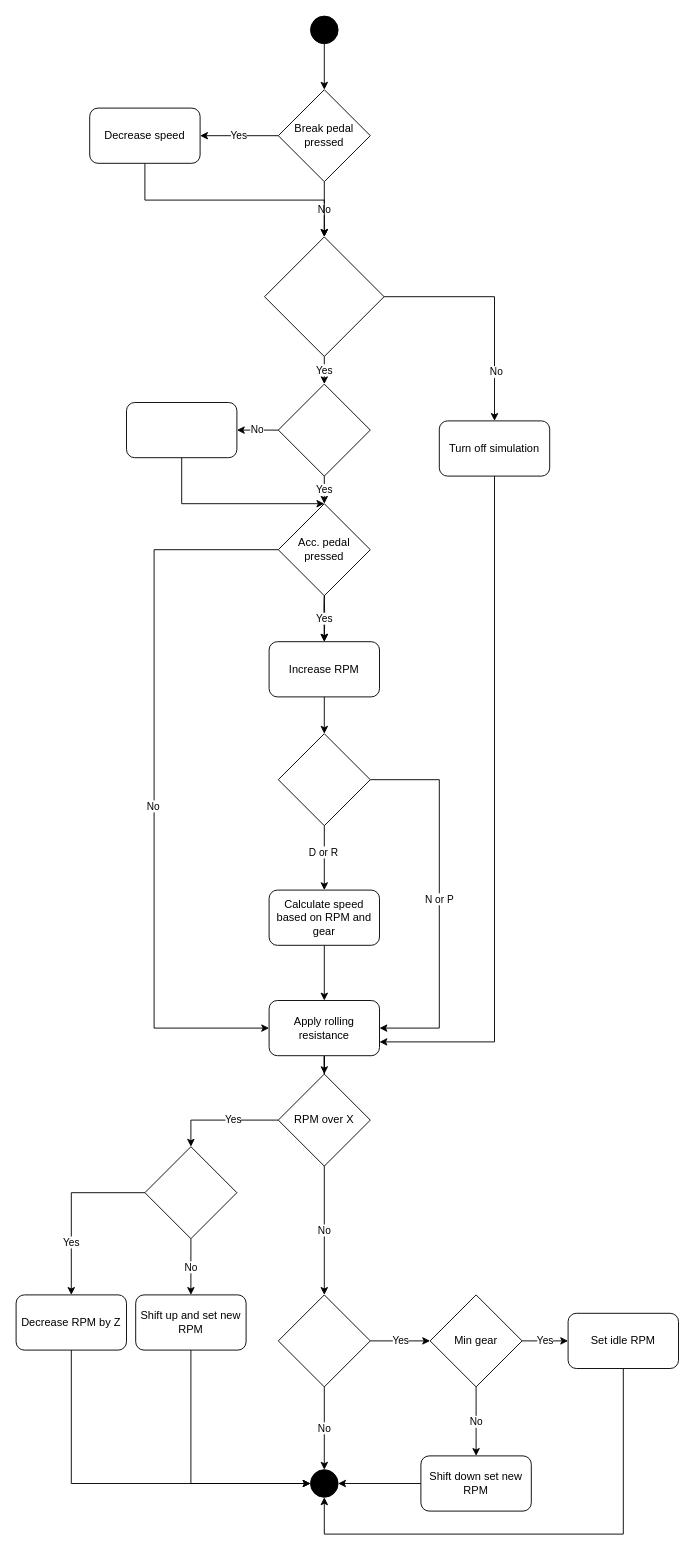
The diagram is 695 pixels wide and 1558 high, and some of its shapes have lost their labels. The centre of each missing label's shape, as x and y in pixels:
Engine on: (323,429)
Gear: (323,779)
Ignition request on: (324,296)
Max gear: (190,1192)
RPM under Y: (323,1340)
Turn on engine and set idle RPM: (181,430)
